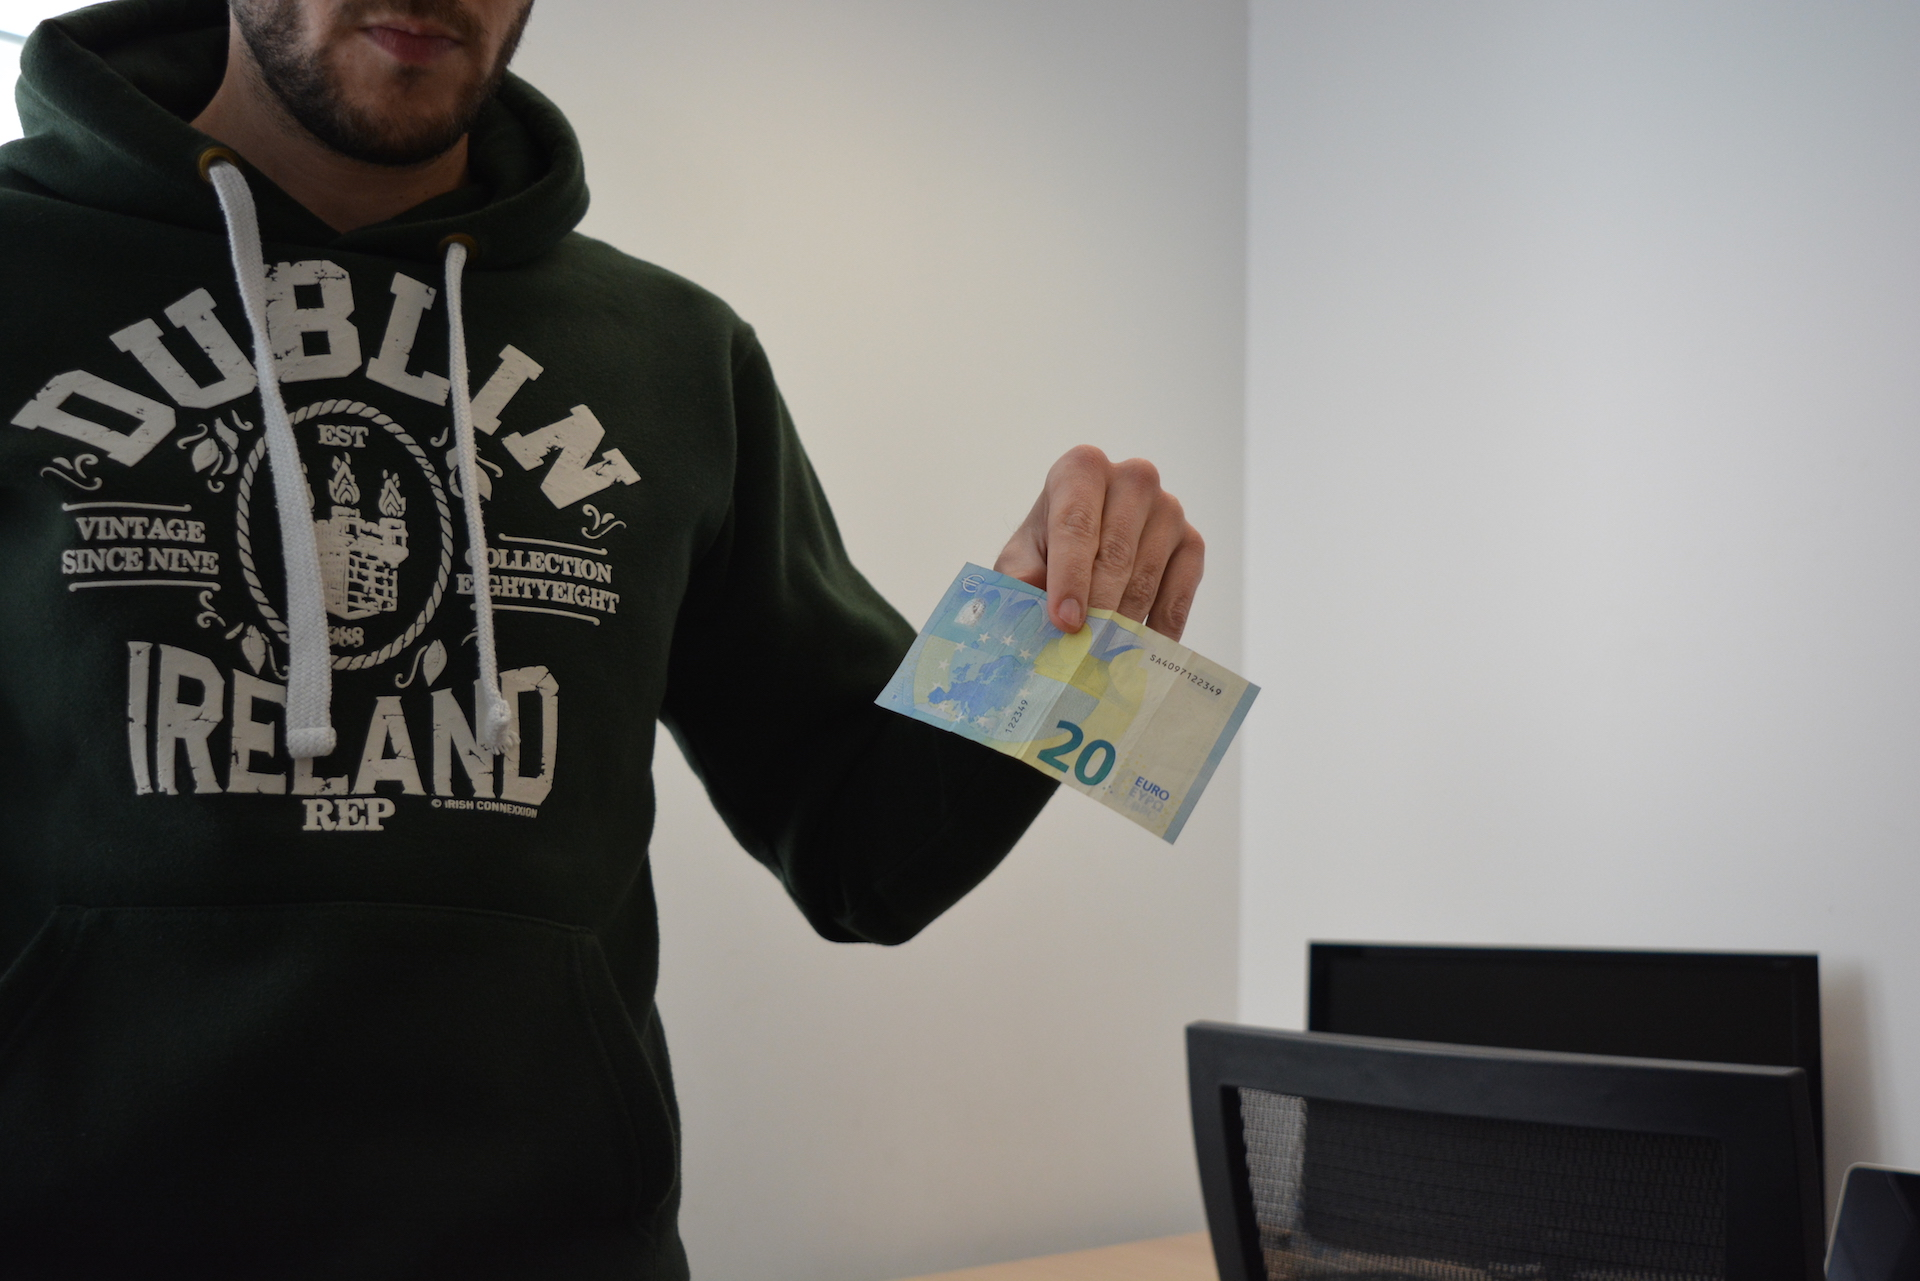billete: (874, 560, 1262, 846)
